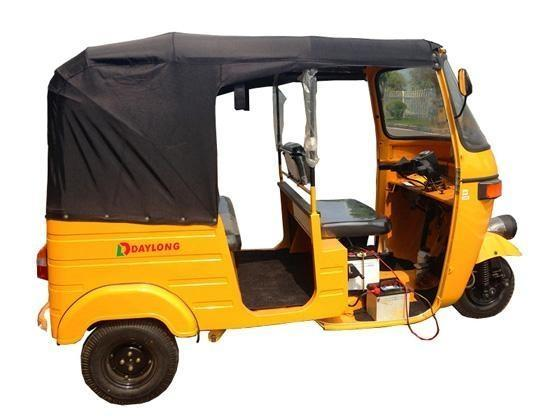keke: (38, 28, 532, 411)
